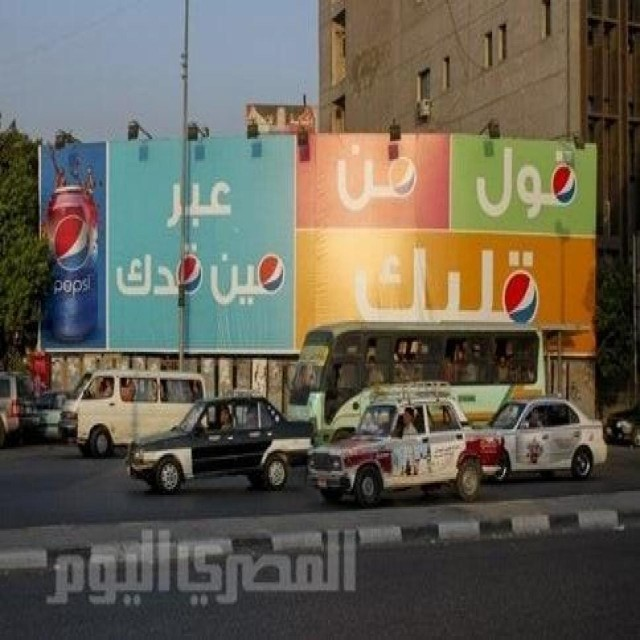pepsi: (52, 212, 93, 271), (501, 271, 540, 323), (389, 154, 418, 199), (552, 164, 578, 205), (260, 254, 285, 295), (177, 259, 202, 292)
